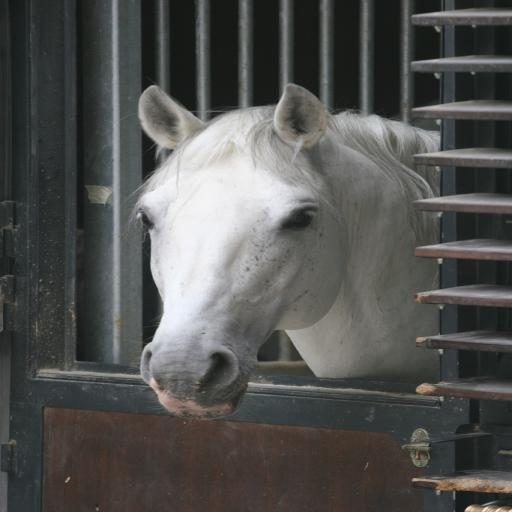horse: (110, 81, 445, 425)
